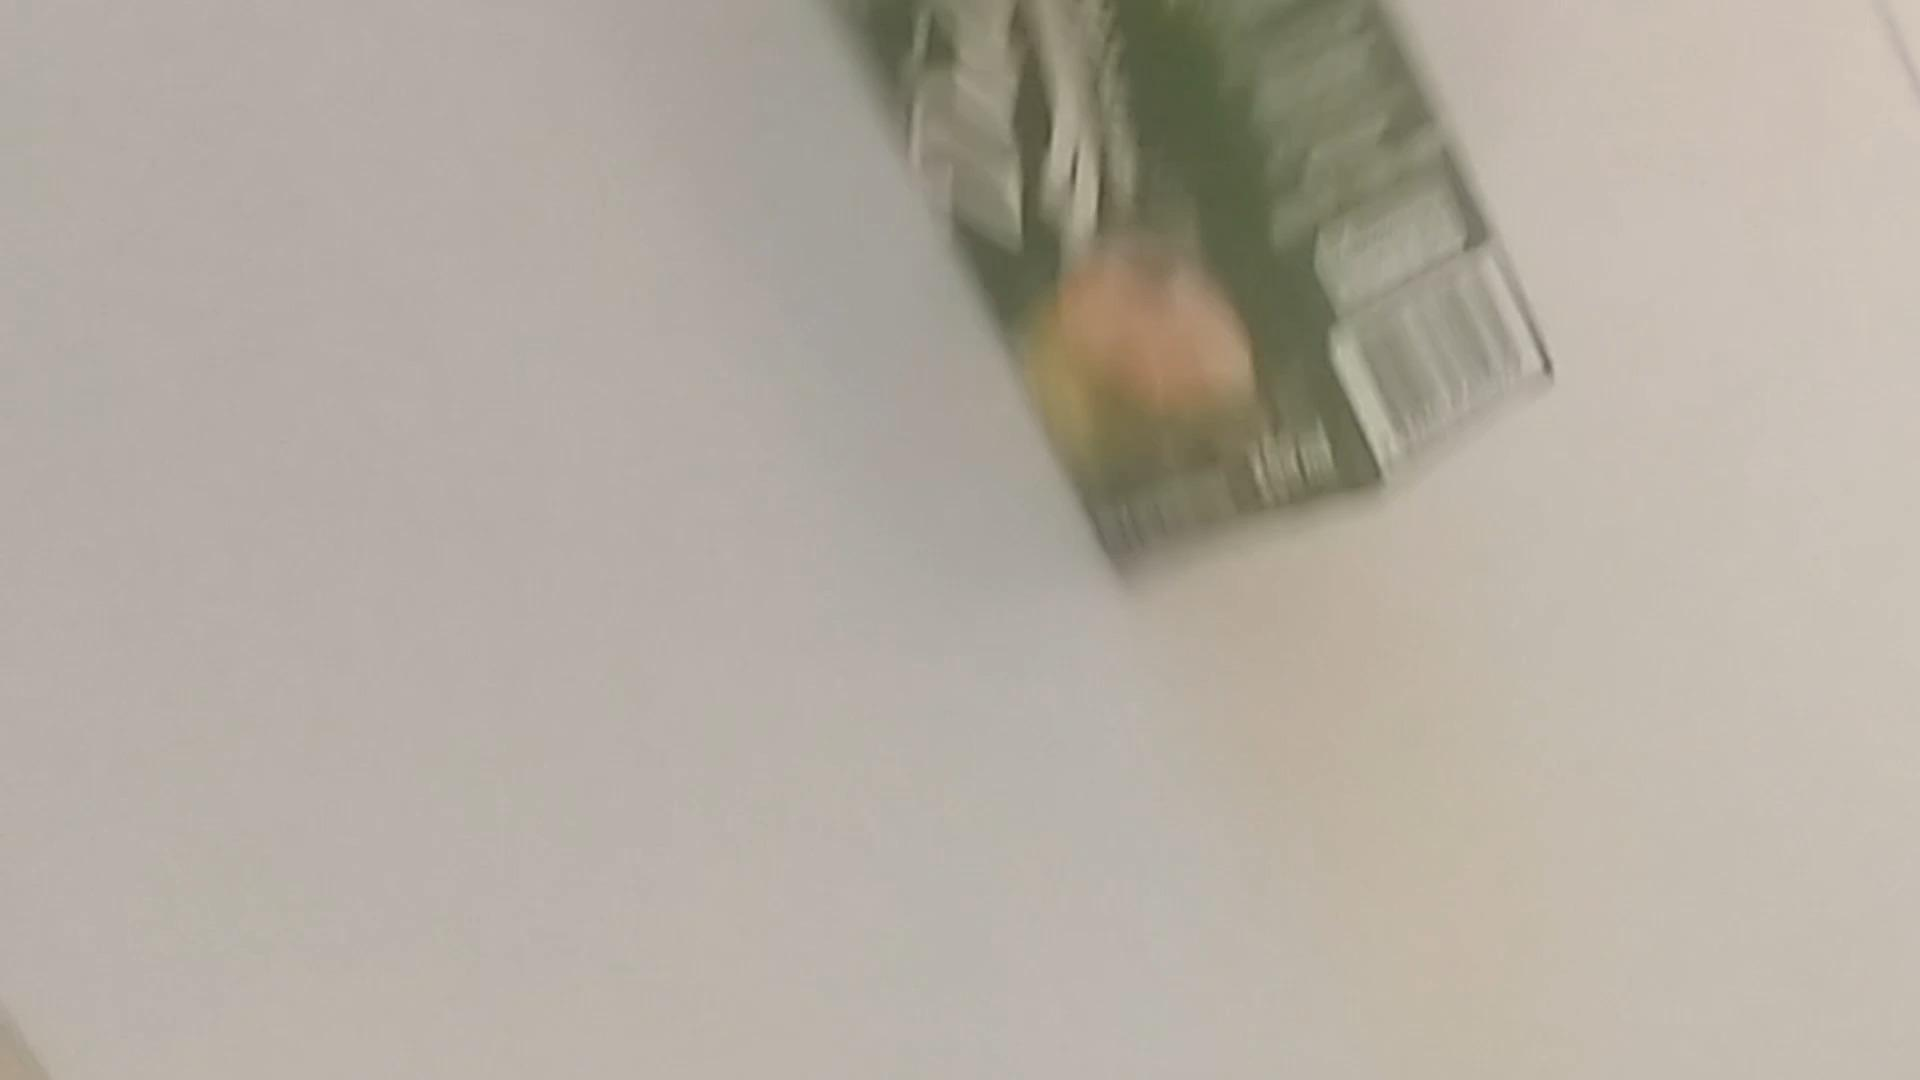coco: (843, 0, 1571, 588)
